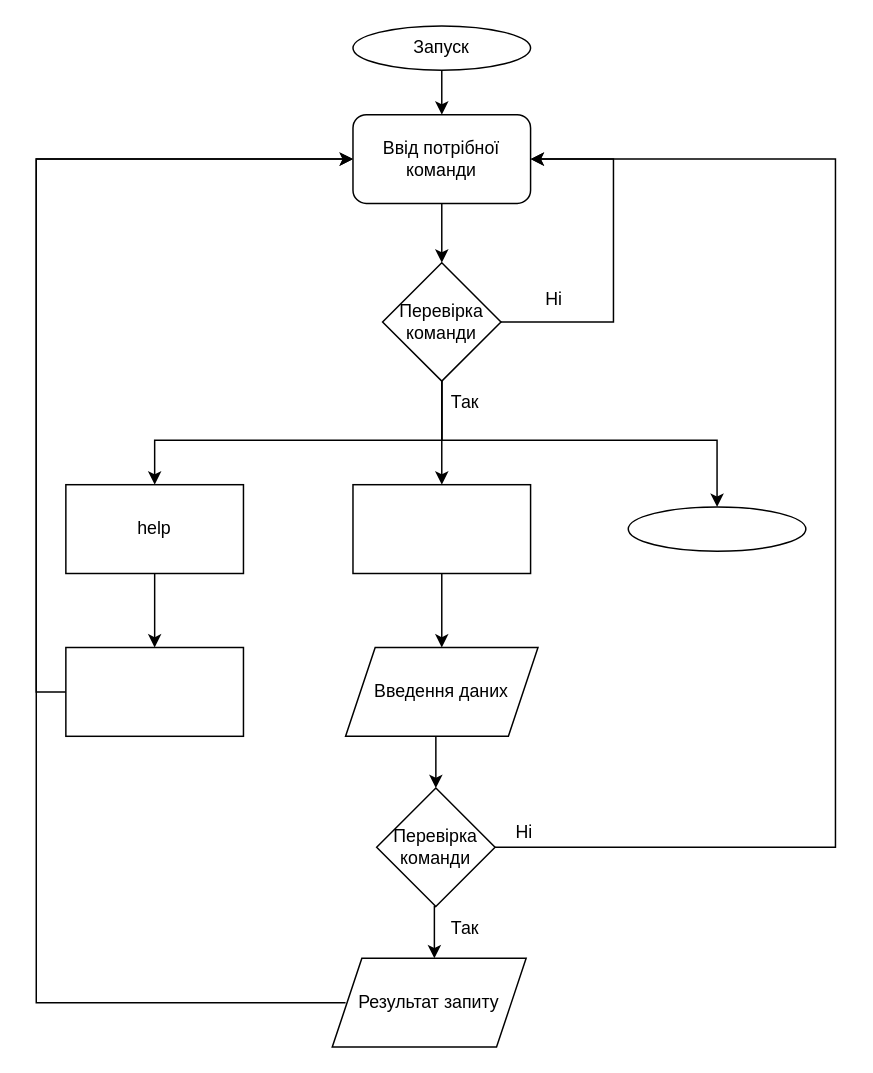
This 873x1073 diagram has some shape labels left out. Each missing label, with the centre of its shape:
"Вивід команд" belongs at point (153, 691).
"Вихід" belongs at point (716, 528).
"Інші команди" belongs at point (441, 528).
